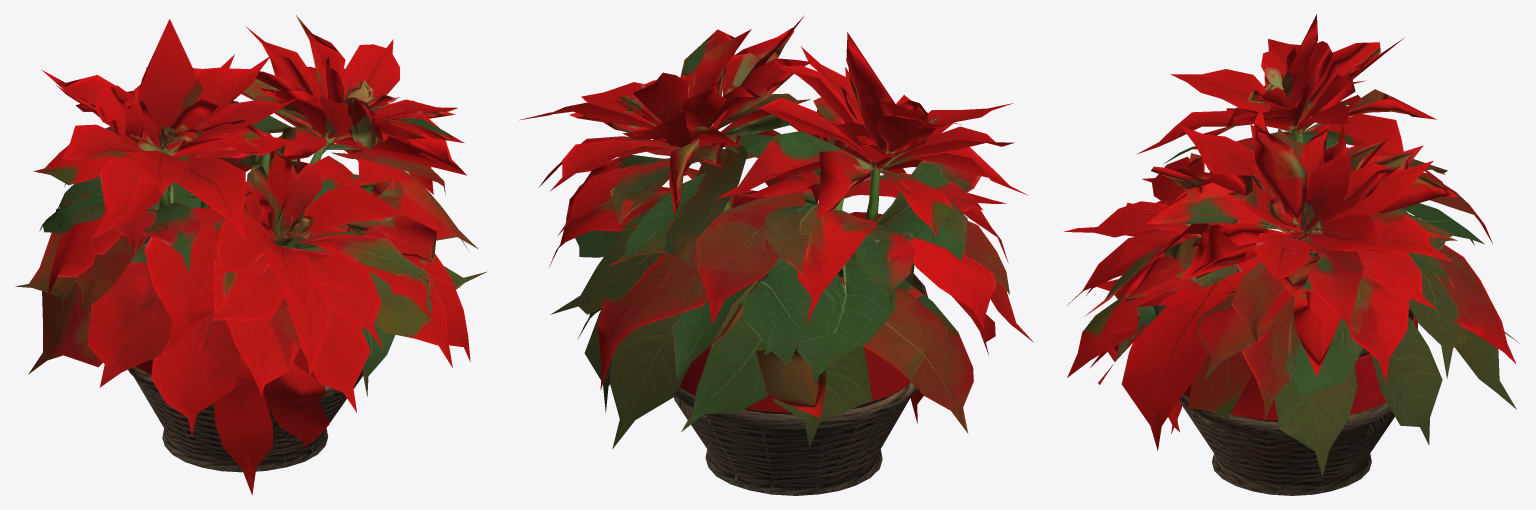
The model's file is xmas_poinsettia.glb.
The picture shows the model from 3 angles, left to right: view 1: azimuth 30°, elevation 25°; view 2: azimuth 150°, elevation 25°; view 3: azimuth 270°, elevation 25°; orthographic projection. The views are drawn at different scales.
Bounding box in the file's own units: 1 × 1 × 0.9965.
Materials: 1 (1 with a texture image).
